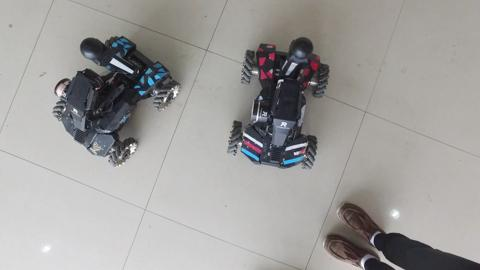chariot: (40, 27, 186, 170), (227, 35, 336, 176)
